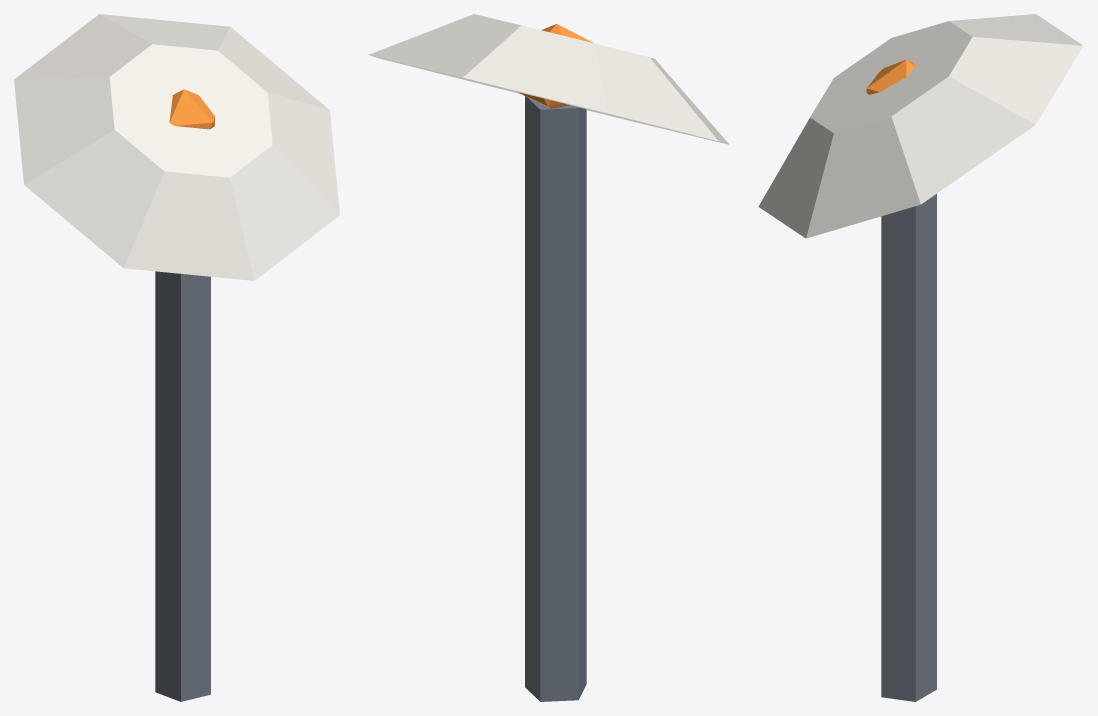
Rendered from att_antenna.glb.
3 renders of one model, left to right at view 1: azimuth 30°, elevation 25°; view 2: azimuth 150°, elevation 25°; view 3: azimuth 270°, elevation 25°, orthographic. The views are drawn at different scales.
Parts seen in each view (by area): view 1: att_antenna; view 2: att_antenna; view 3: att_antenna.
Part boxes in pixels (x1=…): att_antenna: x1=14, y1=14, x2=339, y2=701; att_antenna: x1=368, y1=14, x2=729, y2=701; att_antenna: x1=758, y1=14, x2=1083, y2=701.
Bounding box in the file's own units: 0.24 × 0.4663 × 0.2106.
1 material, 1 textured.
